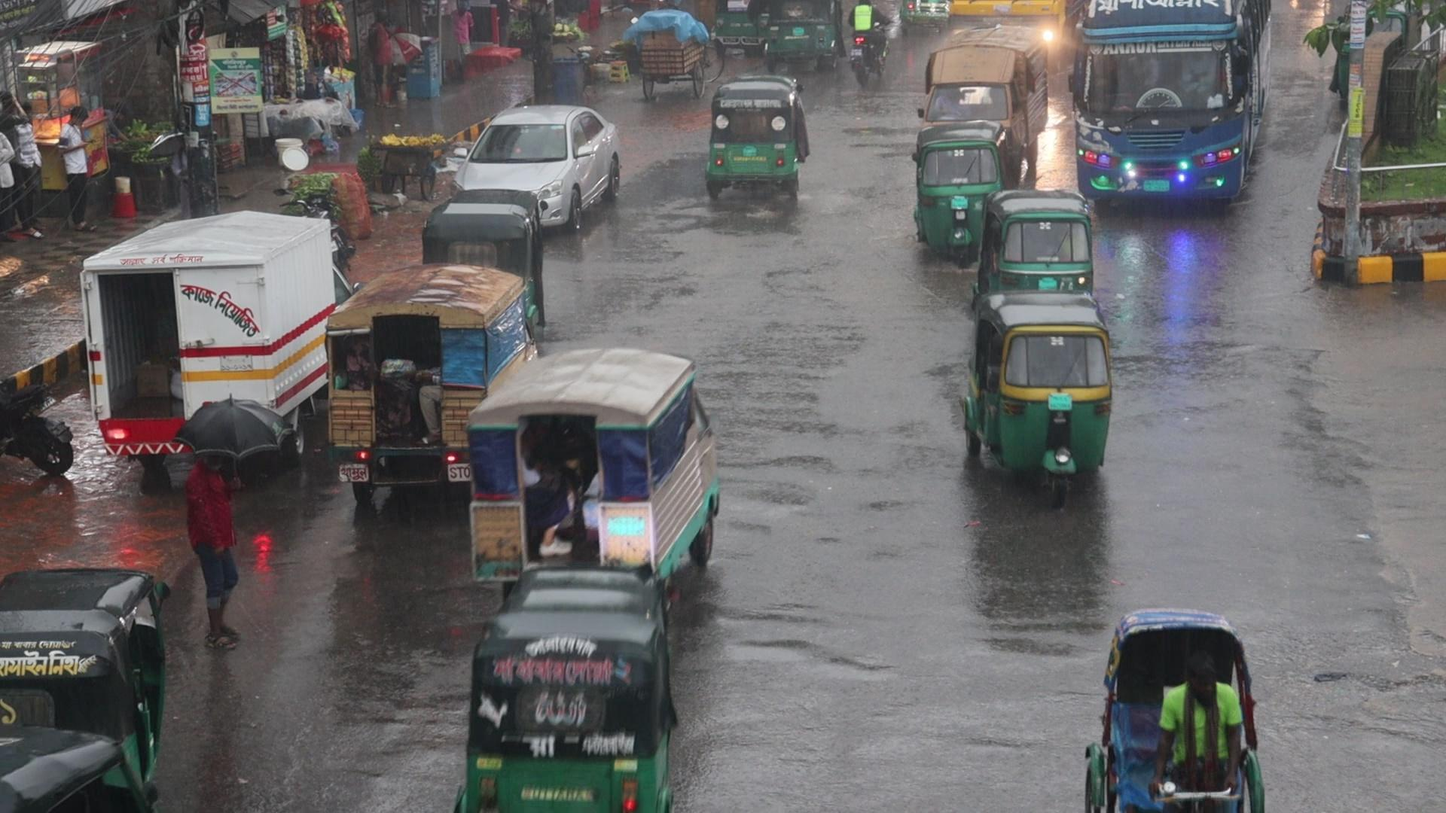Truck: (462, 348, 716, 557), (917, 25, 1049, 130)
